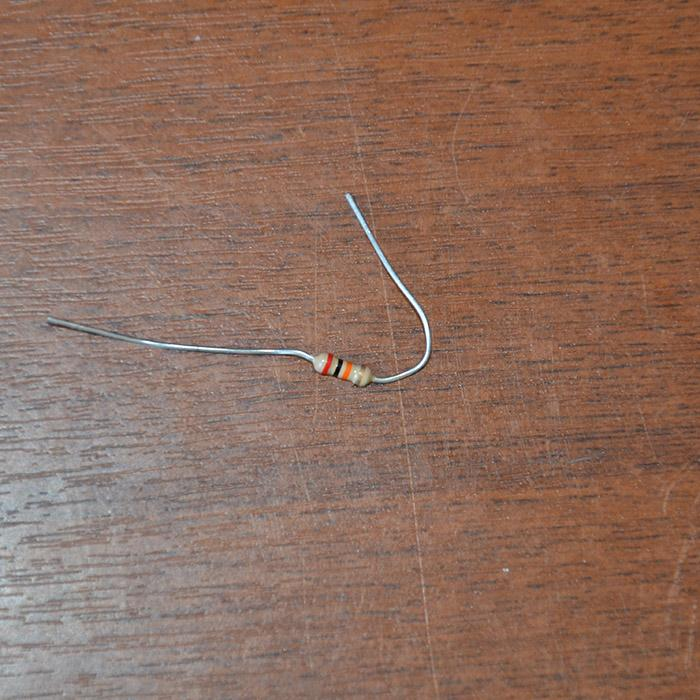resistor: (312, 349, 374, 387)
